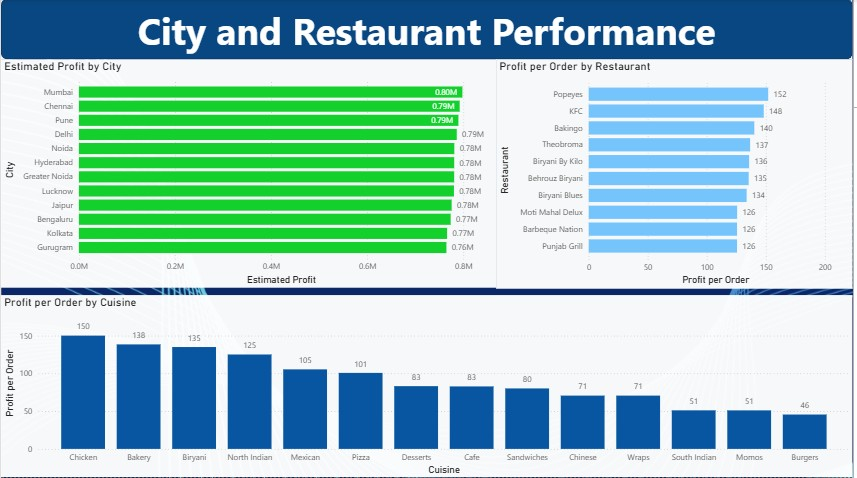

The page's visual inventory and layout, read from the dashboard file:
{"tool":"powerbi","page":{"name":"02_City_Restaurant","canvas":[1280,720],"ordinal":1},"visuals":[{"type":"clusteredBarChart","fields":{"Category":["orders.City"],"Y":["orders.Estimated Profit"]},"box":[0,91,745,343.6],"z":0},{"type":"shape","box":[0,0,1280.3,90.6],"z":1},{"type":"clusteredBarChart","fields":{"Category":["orders.Restaurant"],"Y":["orders.Profit per Order"]},"box":[744.5,90.6,535.8,344.7],"z":2},{"type":"clusteredColumnChart","fields":{"Category":["orders.Cuisine"],"Y":["orders.Profit per Order"]},"box":[0,445.2,1280.3,275.8],"z":3}]}

Visuals, with their boxes in screenshot pixels (x1, y1, x2, y2), scaled from the page's 1280x720 canvas onto the 857x478 screenshot:
clusteredBarChart - orders.City x orders.Estimated Profit: box(0, 60, 499, 289)
shape: box(0, 0, 856, 60)
clusteredBarChart - orders.Restaurant x orders.Profit per Order: box(498, 60, 856, 289)
clusteredColumnChart - orders.Cuisine x orders.Profit per Order: box(0, 296, 856, 477)
